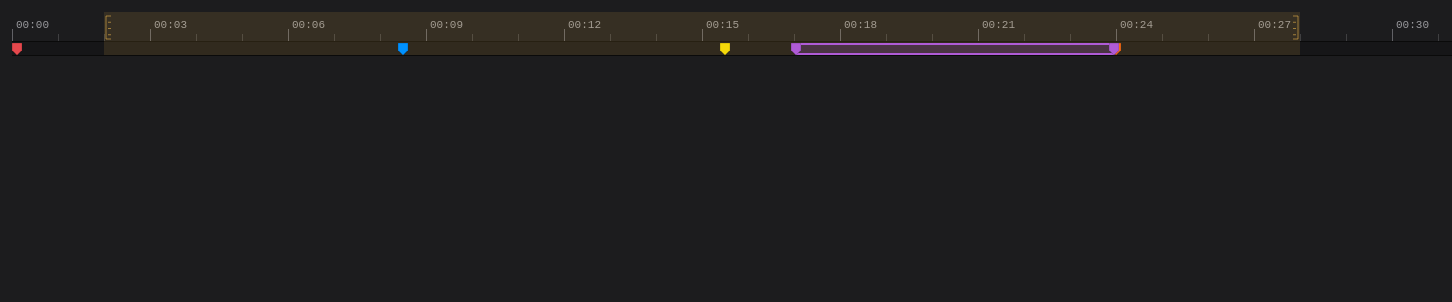
Ruler › the marker-color palette row adds a marker with the picked color at the playhead (spec 16 §3.7)
Right-click the slider named "Timeline ruler".
right_click(732, 34)  # box [12,12,1451,56]
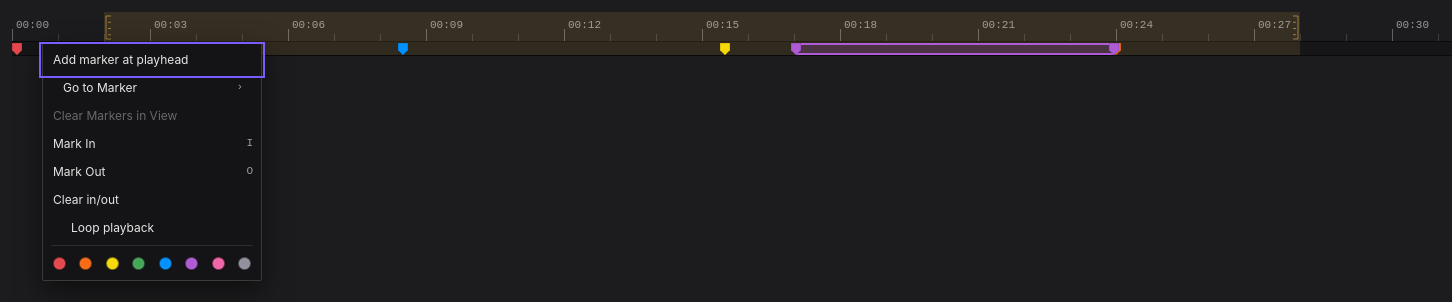
expect the menu item with test id "shell-menu-ruler-color-red" is shown: met
expect the menu item with test id "shell-menu-ruler-color-orange" is shown: met, box [79,256,92,270]
Click the menu item with test id "shell-menu-ruler-color-red".
click(60, 263)  # box [53,256,66,270]
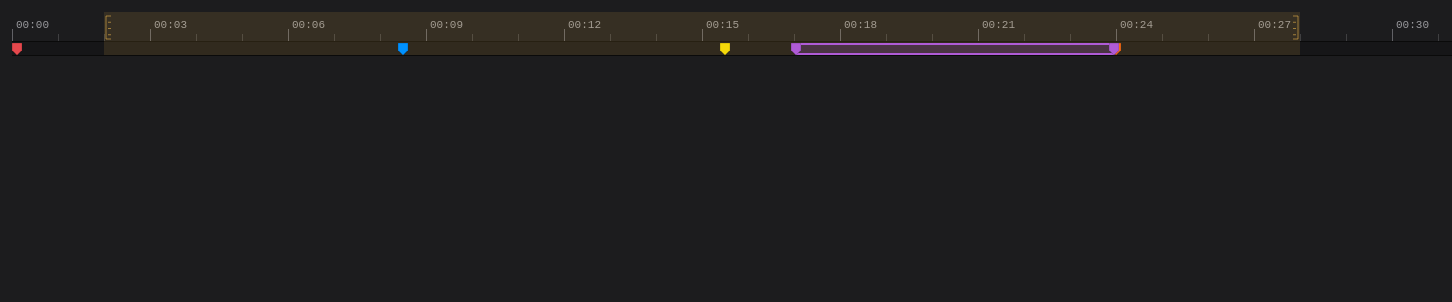
expect the menu with test id "shell-menu-ruler" is gone: met
